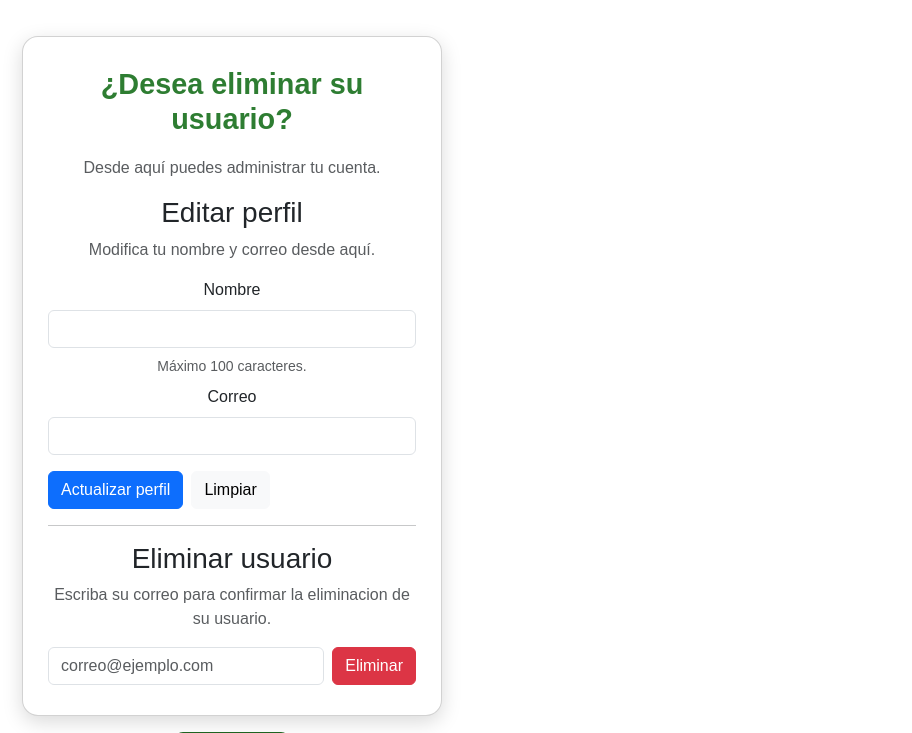
Test case: Ajustes page › elimina al usuario actual cuando la API responde correctamente
The width and height of the screenshot is (912, 733).
Step 1. Type "elim@condor.cl" into the field with placeholder "correo@ejemplo.com" → (186, 666), box [48,647,324,685]
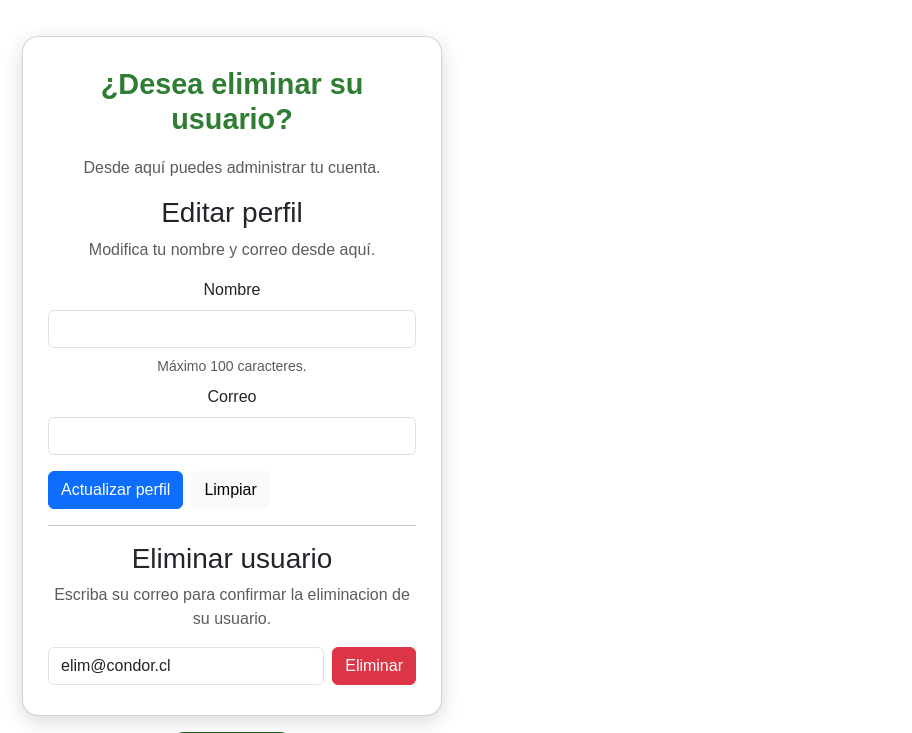
Step 2. Click the button "Eliminar" → (374, 666), box [332,647,416,685]
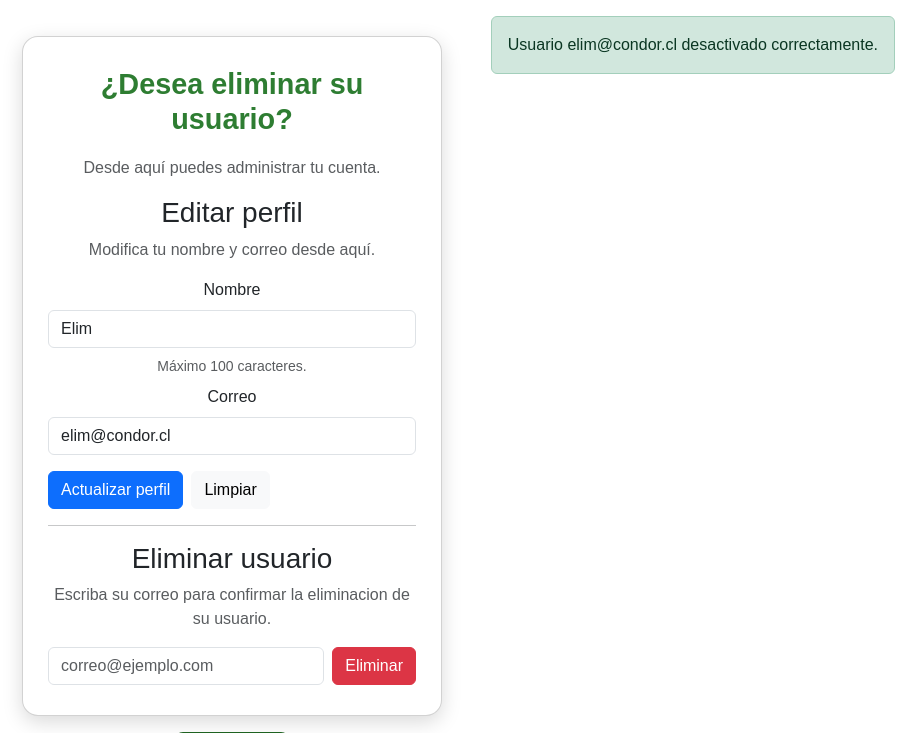
Expected: the text "Usuario elim@condor.cl desactivado correctamente." is shown, [491,16,895,74]
